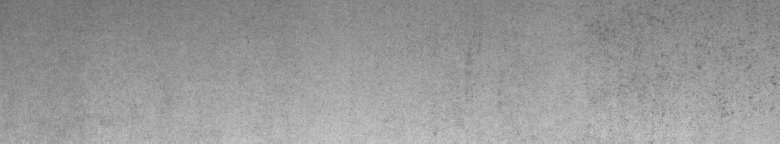ib: (640, 13, 776, 120)
